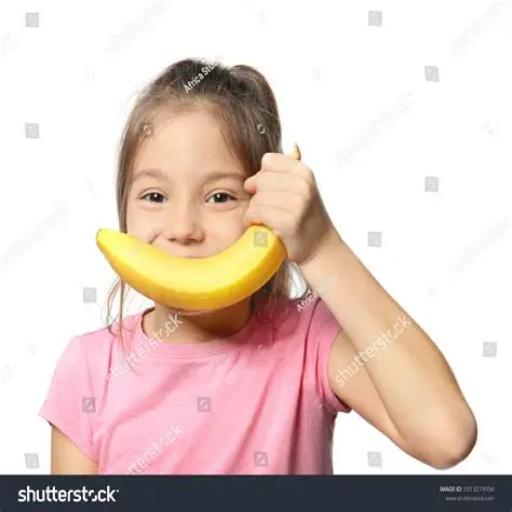banana: (97, 225, 287, 310)
